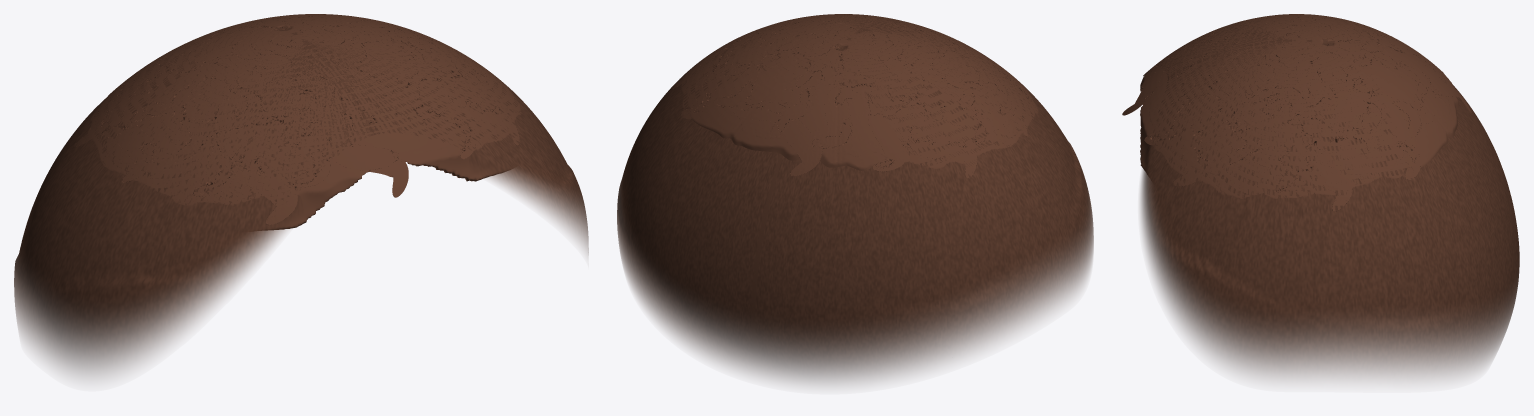
Rendered from Masculine-curly-top-cap252-hair.glb.
3 views of the same model, side by side, from view 1: azimuth 30°, elevation 25°; view 2: azimuth 150°, elevation 25°; view 3: azimuth 270°, elevation 25° (orthographic). The views are drawn at different scales.
Parts seen in each view (by area): view 1: 226 hair / Hair252 / curly close fade coverage.001, 226 hair / Hair252 / sculpted curl groups.001; view 2: 226 hair / Hair252 / curly close fade coverage.001, 226 hair / Hair252 / sculpted curl groups.001; view 3: 226 hair / Hair252 / curly close fade coverage.001, 226 hair / Hair252 / sculpted curl groups.001.
Boxes of the visible parts, left/top/right/bottom form: 226 hair / Hair252 / curly close fade coverage.001: left=14, top=14, right=588, bottom=376; 226 hair / Hair252 / sculpted curl groups.001: left=74, top=14, right=521, bottom=230; 226 hair / Hair252 / curly close fade coverage.001: left=617, top=14, right=1093, bottom=384; 226 hair / Hair252 / sculpted curl groups.001: left=672, top=14, right=1038, bottom=178; 226 hair / Hair252 / curly close fade coverage.001: left=1140, top=14, right=1519, bottom=379; 226 hair / Hair252 / sculpted curl groups.001: left=1122, top=14, right=1471, bottom=211.
Size of the model in its own units: 0.976 by 0.6423 by 0.7406.
Materials: 2 (1 with a texture image).
